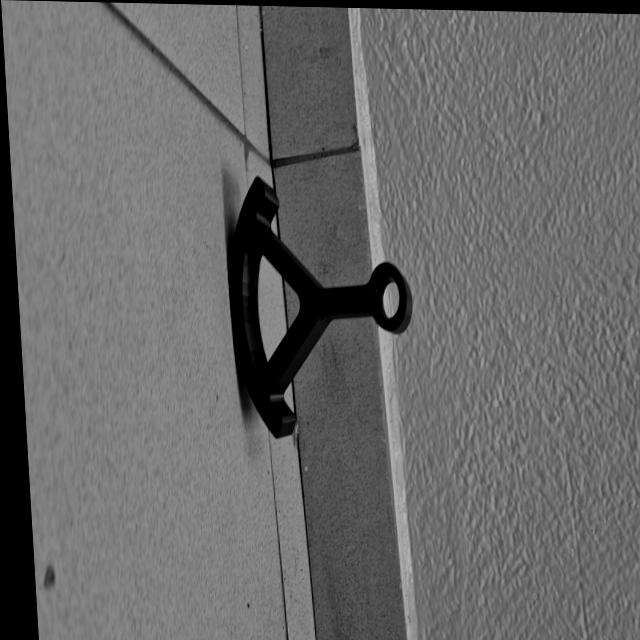haptic: (220, 172, 422, 444)
